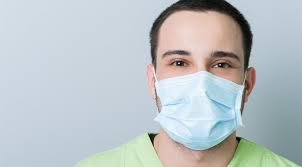mask: (147, 71, 246, 149)
